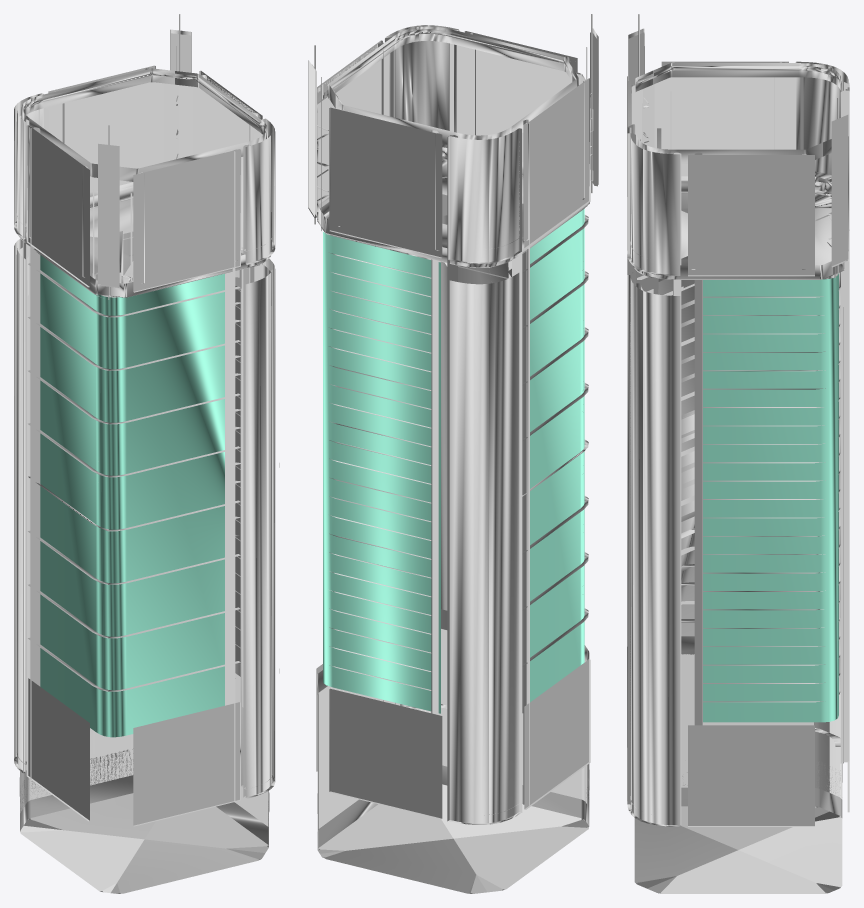
File: building_750m_001_a.glb
The picture shows the model from 3 angles, left to right: view 1: azimuth 30°, elevation 25°; view 2: azimuth 150°, elevation 25°; view 3: azimuth 270°, elevation 25°; orthographic projection. The views are drawn at different scales.
Size of the model in its own units: 208 by 813 by 207.
